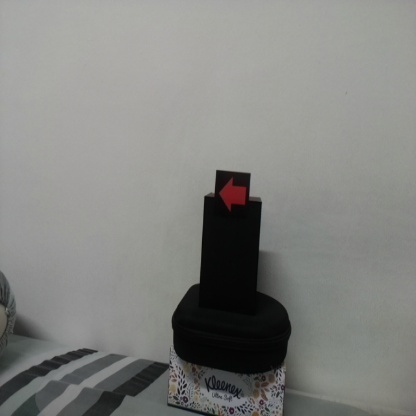id_4: (216, 170, 250, 221)
